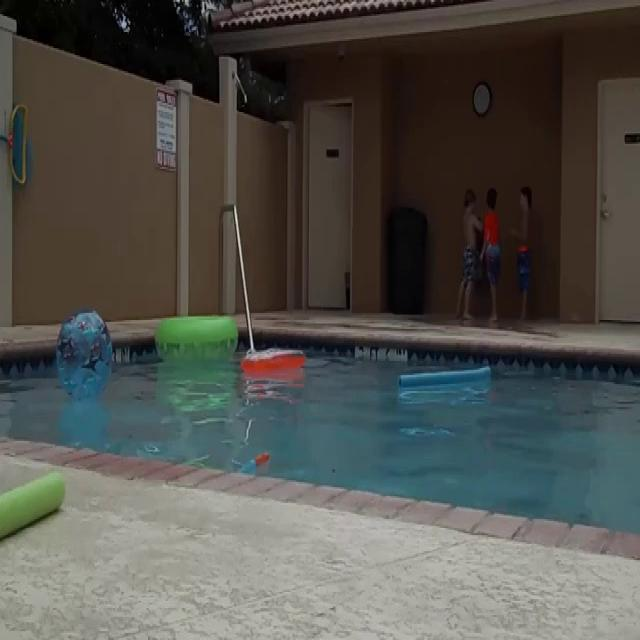child: (454, 182, 484, 322), (510, 180, 536, 326), (482, 170, 504, 327)
